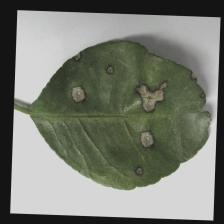canker: (67, 37, 170, 182)
